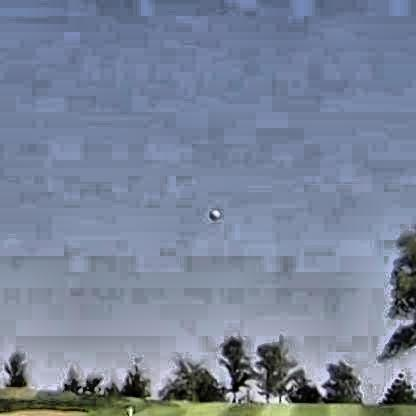golfball: (207, 206, 218, 217)
